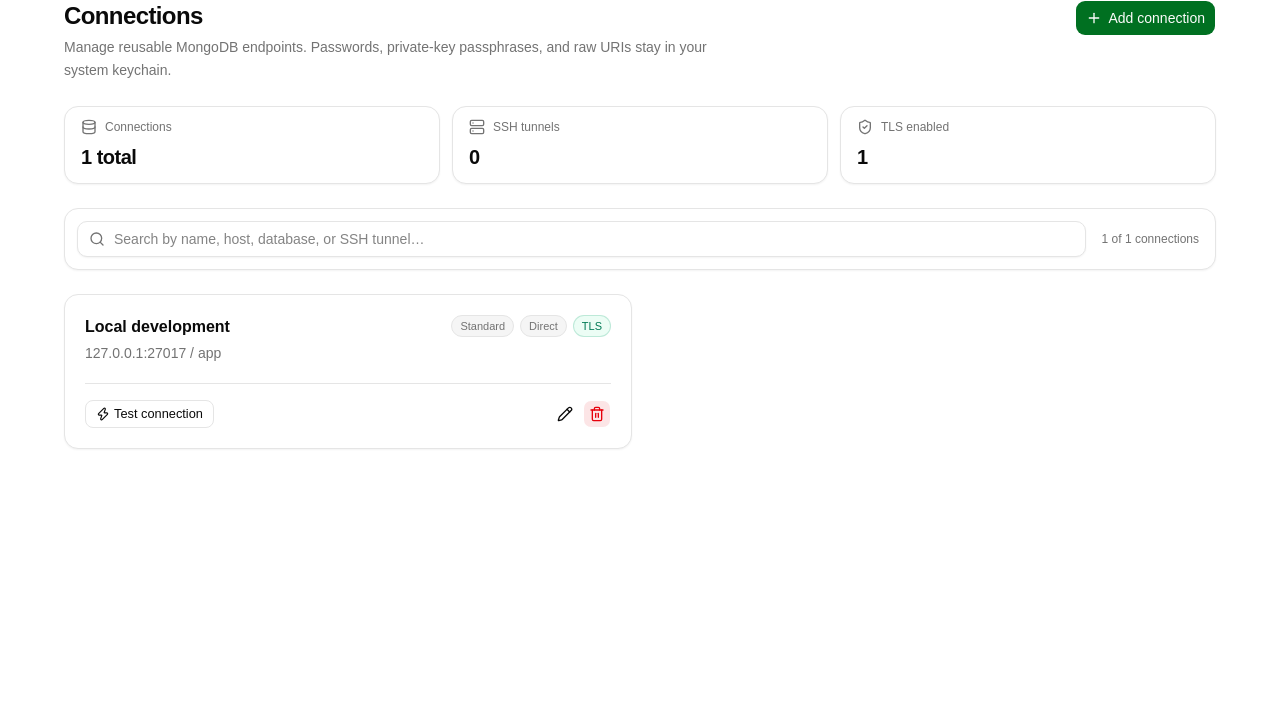
Test: ConnectionsScreen › allows the delete confirmation to be dismissed with Escape
Click the button named "delete local development": (597, 414) [583,400,611,428]
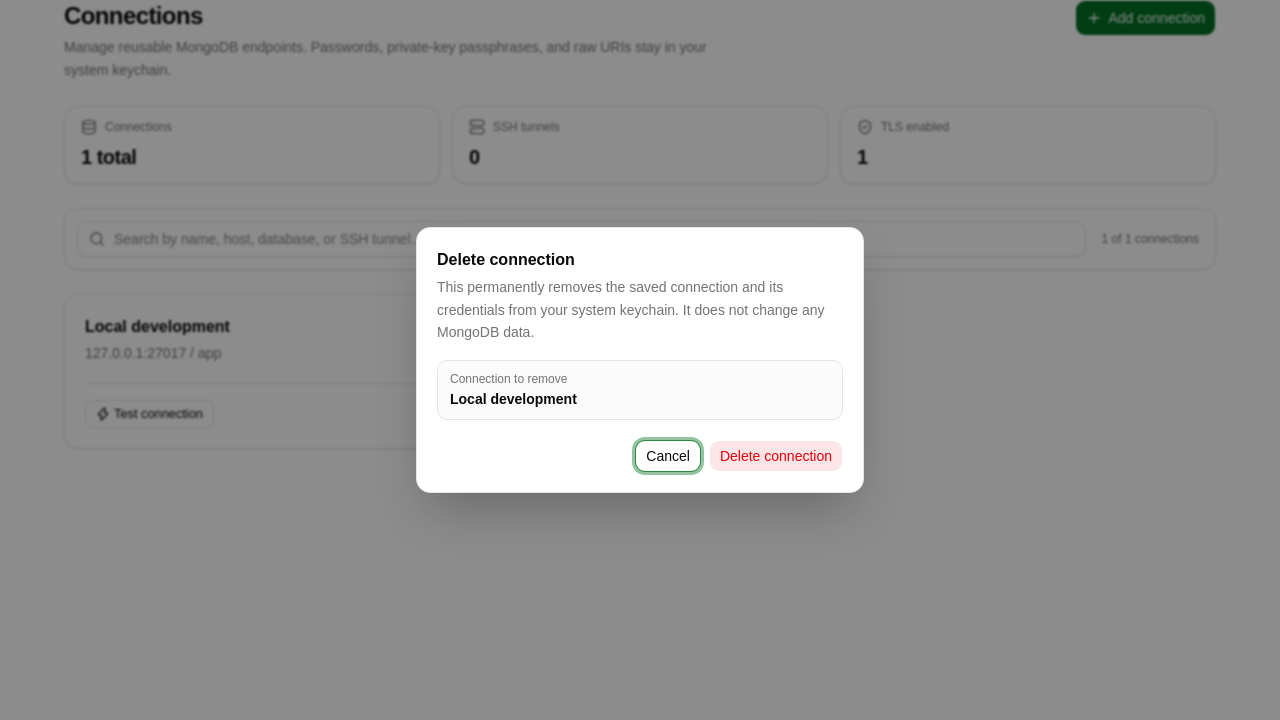
Now the dialog "Delete connection" is shown, box [416,227,864,493]
Press Escape
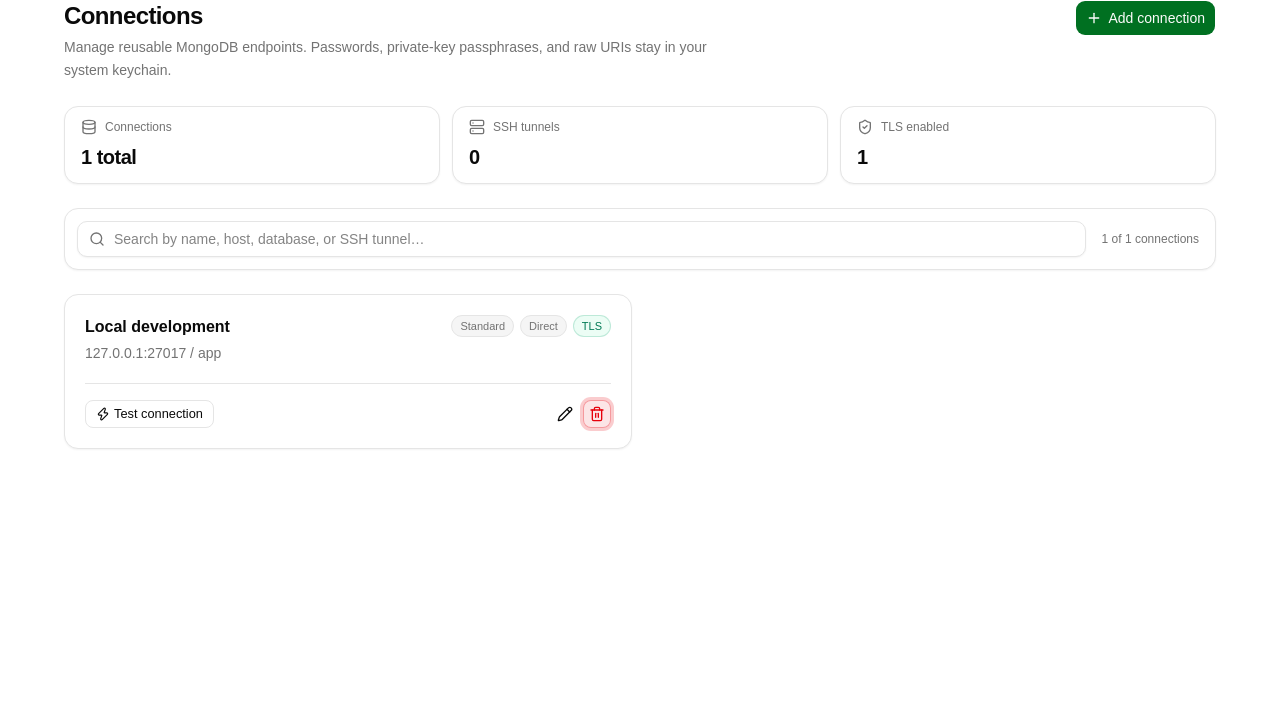
Now the dialog is gone
